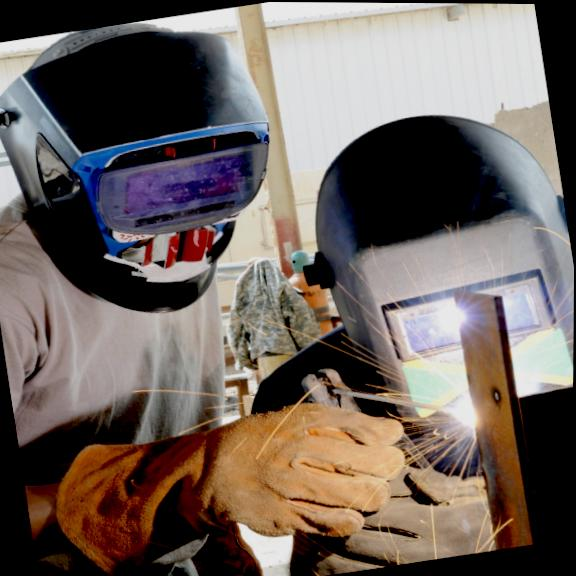no_safety_vest: (0, 158, 260, 564)
